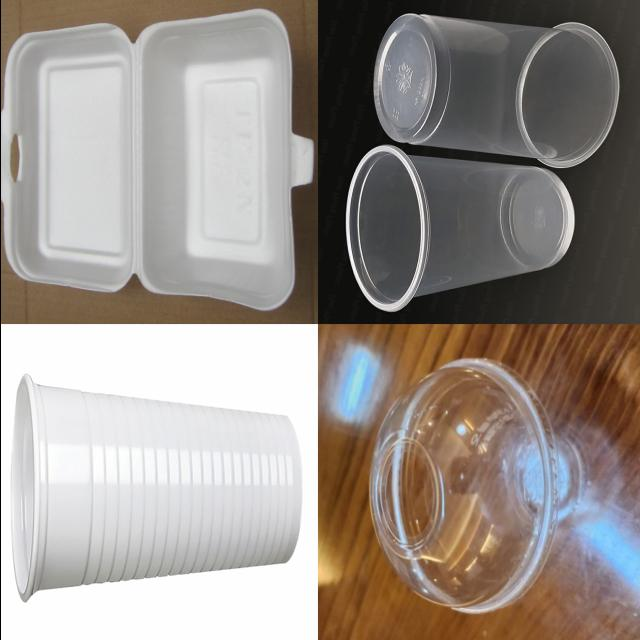plastik: (0, 9, 312, 310), (11, 375, 300, 601), (370, 360, 583, 614), (345, 145, 573, 311), (373, 14, 618, 168)
